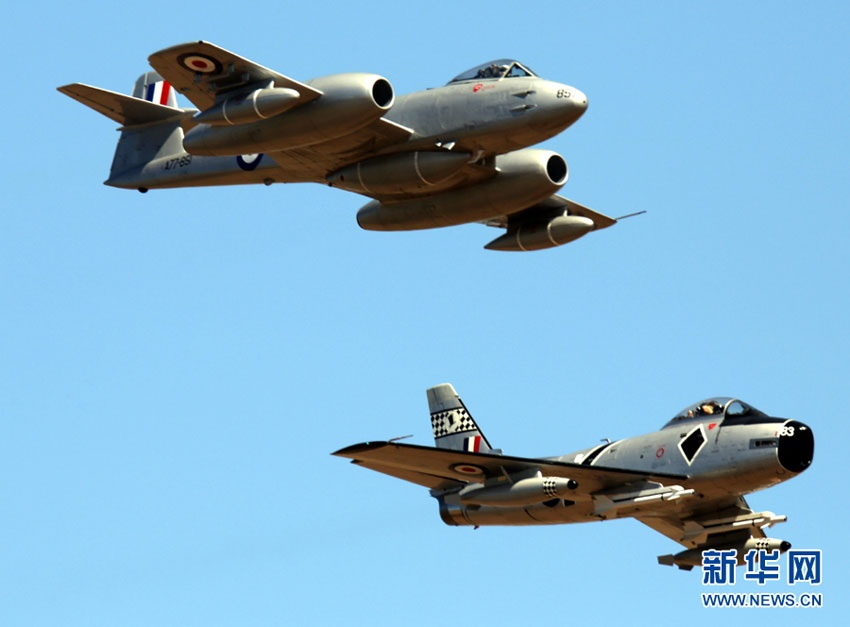airplane: (53, 32, 636, 250), (330, 378, 828, 571)
